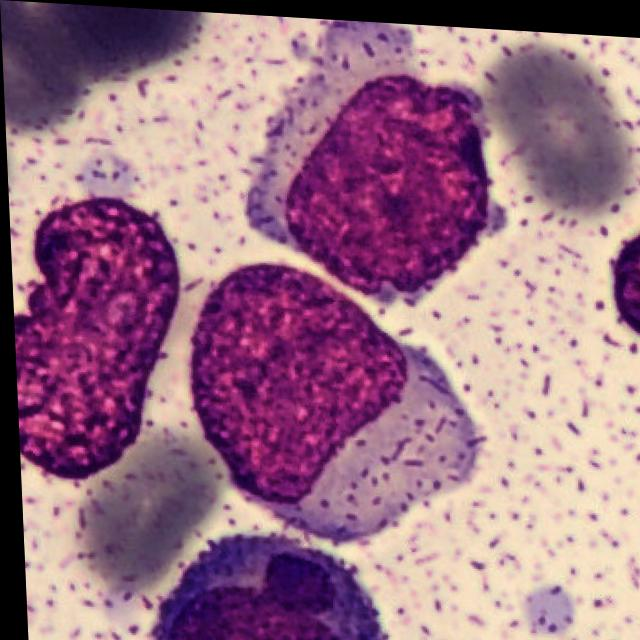Mieloblasto: (186, 263, 480, 540), (245, 15, 493, 294)
